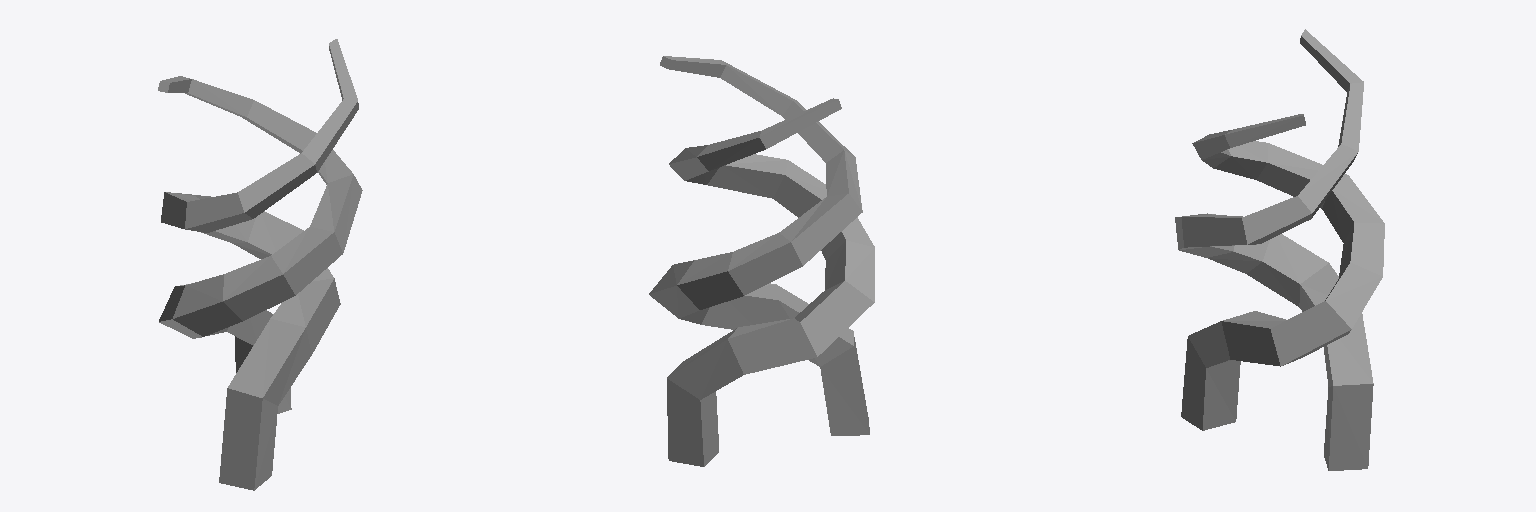
Rendered from Plant_2_CUBezierCurve.obj.
3 renders of one model, left to right at view 1: azimuth 30°, elevation 25°; view 2: azimuth 150°, elevation 25°; view 3: azimuth 270°, elevation 25°, orthographic.
Visible parts, largest first — view 1: Plant_2_CUBezierCurve.018; view 2: Plant_2_CUBezierCurve.018; view 3: Plant_2_CUBezierCurve.018.
Part boxes in pixels (bbox=[...]): Plant_2_CUBezierCurve.018: bbox=[158, 39, 362, 490]; Plant_2_CUBezierCurve.018: bbox=[649, 56, 874, 466]; Plant_2_CUBezierCurve.018: bbox=[1175, 29, 1384, 470].
Size of the model in its own units: 1.06 by 1.97 by 1.01.